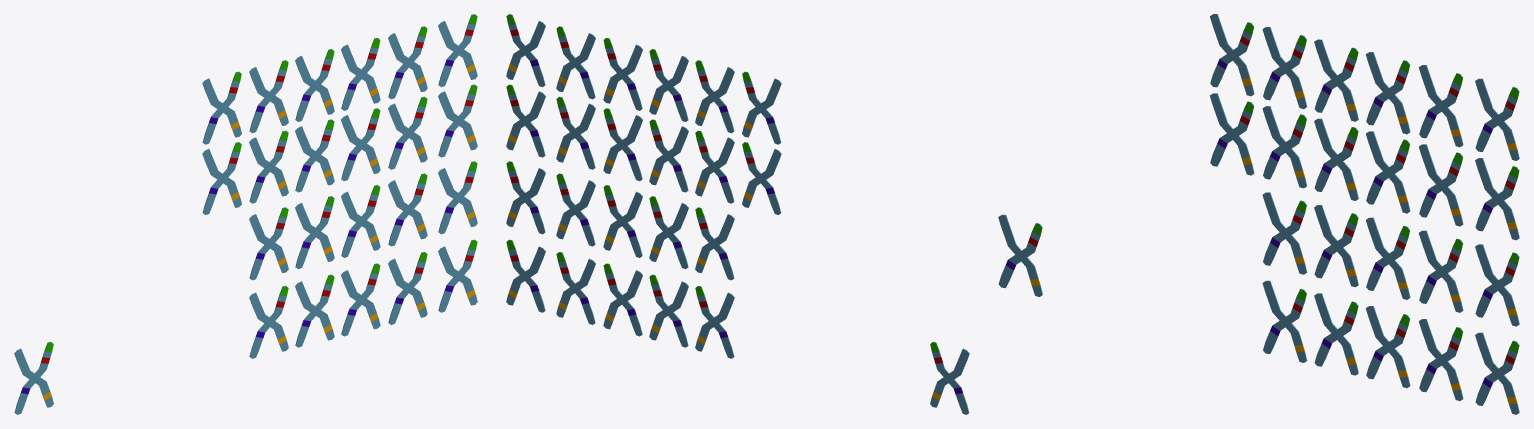
File: chromosomes 1.fbx
3 views of the same model, side by side, from view 1: azimuth 30°, elevation 25°; view 2: azimuth 150°, elevation 25°; view 3: azimuth 330°, elevation 25° (orthographic). The views are drawn at different scales.
Visible parts, largest first — view 1: chromosomes__15_, chromosomes__1_, chromosomes__9_, chromosomes__17_, chromosomes__19_, chromosomes__10_, chromosomes__14_, chromosomes__6_, chromosomes__11_, chromosomes, chromosomes__12_, chromosomes__20_ (+11 smaller); view 2: chromosomes__15_, chromosomes__1_, chromosomes__9_, chromosomes__17_, chromosomes__19_, chromosomes__10_, chromosomes__14_, chromosomes__6_, chromosomes__11_, chromosomes, chromosomes__12_, chromosomes__20_ (+11 smaller); view 3: chromosomes__18_, chromosomes__12_, chromosomes__1_, chromosomes__21_, chromosomes__2_, chromosomes__6_, chromosomes__10_, chromosomes__3_, chromosomes__8_, chromosomes__22_, chromosomes__15_, chromosomes__5_ (+11 smaller).
Part boxes in pixels (box(x1,y1,x2,y2)): chromosomes__15_: box(295, 274, 334, 347); chromosomes__1_: box(438, 84, 477, 157); chromosomes__9_: box(341, 108, 380, 181); chromosomes__17_: box(249, 130, 288, 203); chromosomes__19_: box(249, 285, 288, 358); chromosomes__10_: box(341, 185, 380, 257); chromosomes__14_: box(295, 196, 334, 269); chromosomes__6_: box(388, 173, 427, 246); chromosomes__11_: box(341, 263, 380, 336); chromosomes: box(438, 14, 477, 87); chromosomes__12_: box(295, 49, 334, 121); chromosomes__20_: box(202, 71, 241, 144); chromosomes__15_: box(649, 274, 688, 347); chromosomes__1_: box(506, 84, 545, 157); chromosomes__9_: box(603, 108, 642, 181); chromosomes__17_: box(695, 130, 734, 203); chromosomes__19_: box(695, 285, 734, 358); chromosomes__10_: box(603, 185, 642, 257); chromosomes__14_: box(649, 196, 688, 269); chromosomes__6_: box(556, 173, 595, 246); chromosomes__11_: box(603, 263, 642, 336); chromosomes: box(506, 14, 545, 87); chromosomes__12_: box(649, 49, 688, 121); chromosomes__20_: box(742, 71, 781, 144); chromosomes__18_: box(1262, 192, 1307, 274); chromosomes__12_: box(1314, 39, 1358, 121); chromosomes__1_: box(1475, 158, 1519, 240); chromosomes__21_: box(1210, 93, 1254, 175); chromosomes__2_: box(1475, 244, 1519, 326); chromosomes__6_: box(1419, 230, 1463, 312); chromosomes__10_: box(1366, 217, 1410, 299); chromosomes__3_: box(1475, 332, 1519, 414); chromosomes__8_: box(1365, 52, 1410, 134); chromosomes__22_: box(998, 214, 1042, 296); chromosomes__15_: box(1314, 293, 1358, 375); chromosomes__5_: box(1419, 144, 1463, 226).
Size of the model in its own units: 379 by 227 by 0.7181.
